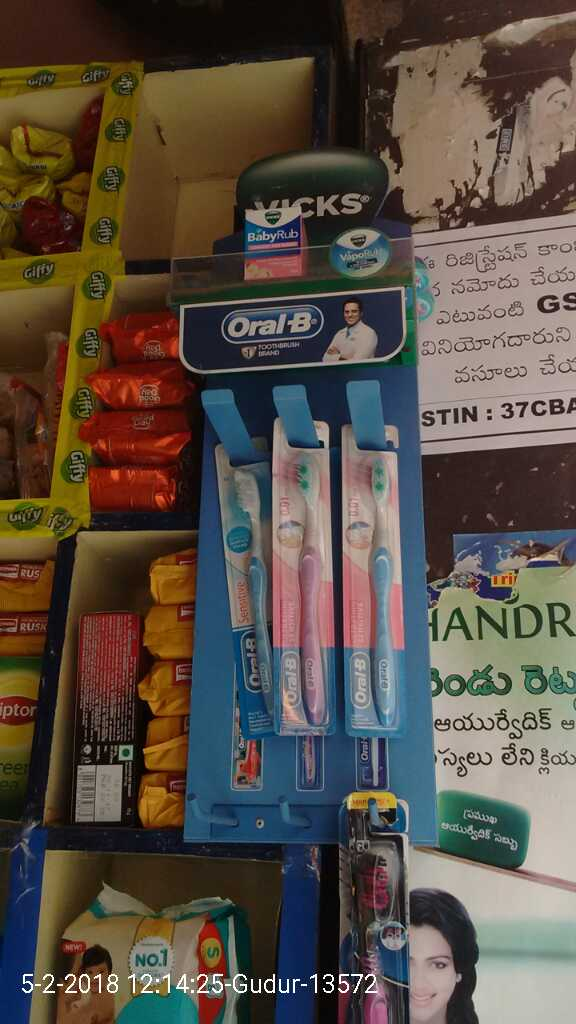pharmacy: (331, 451, 404, 741), (212, 457, 276, 730), (273, 449, 334, 732), (228, 204, 409, 285)
